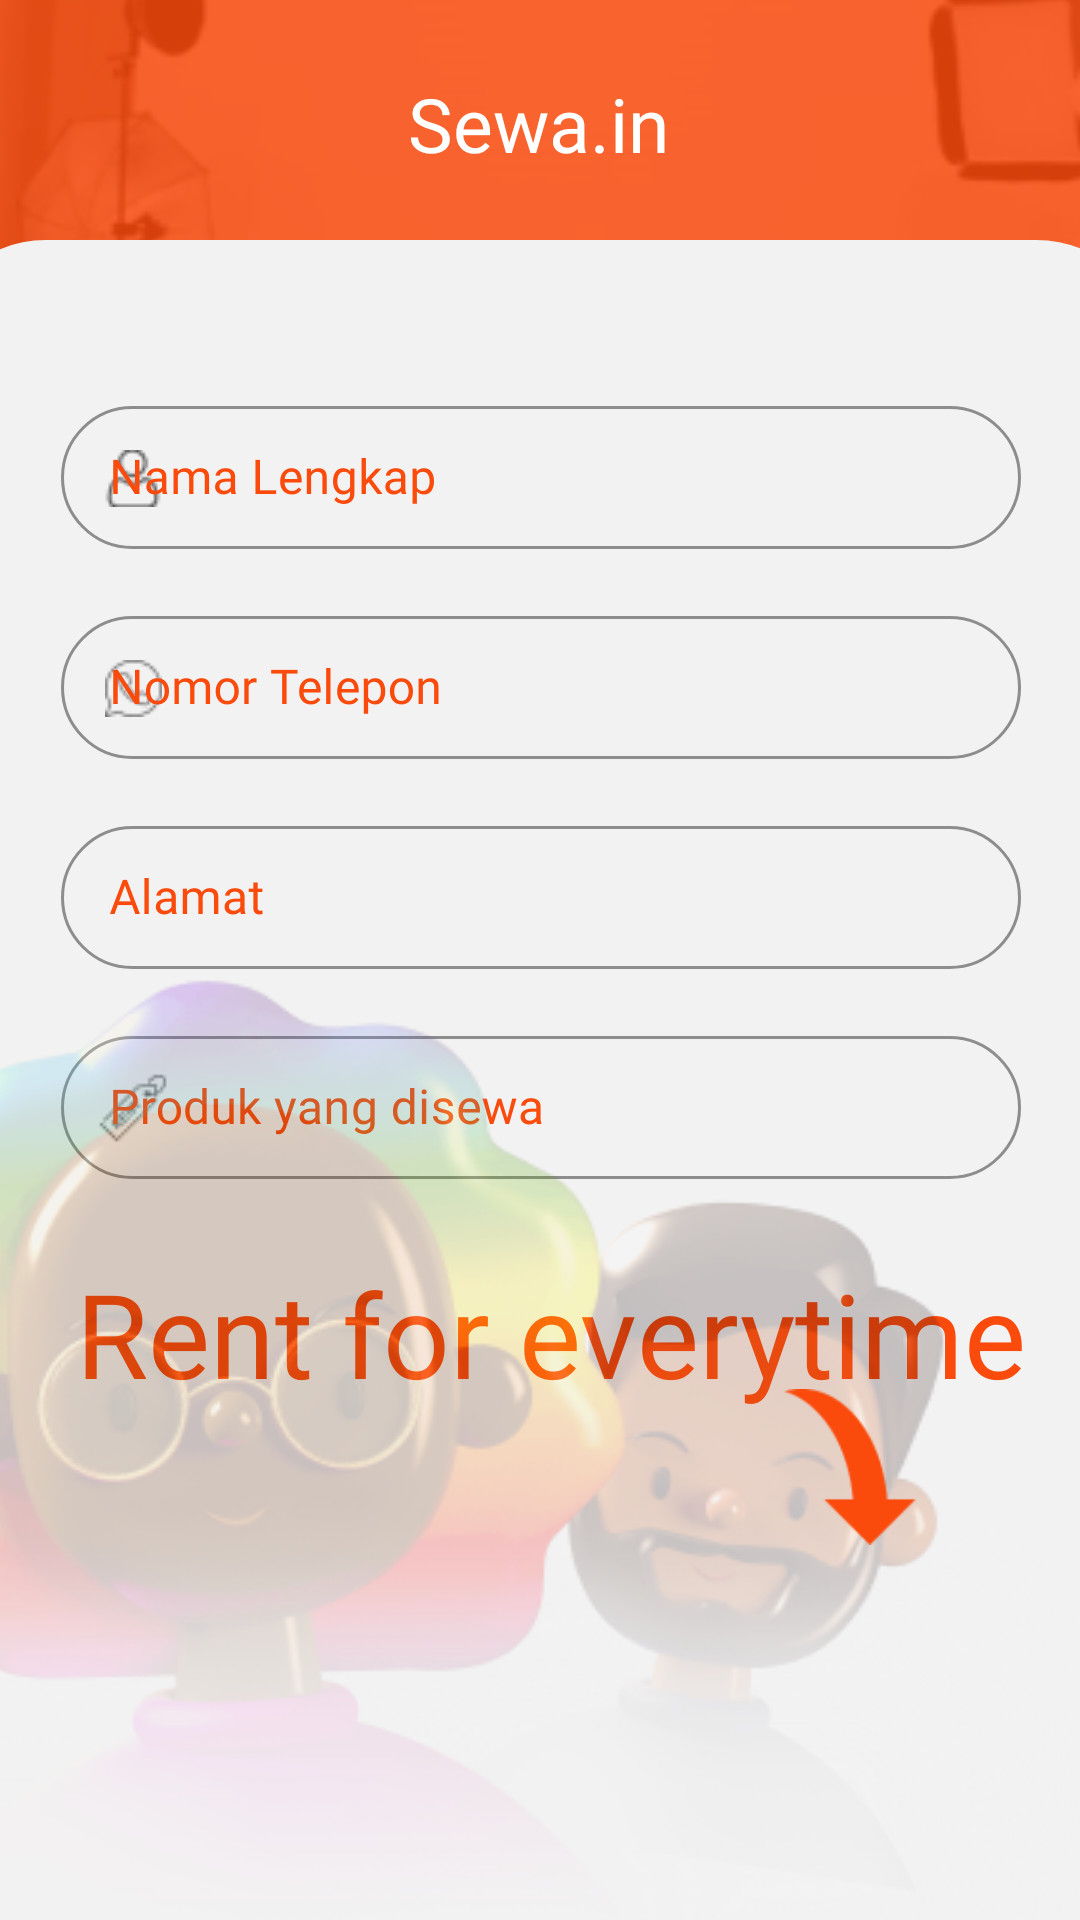

Named icons in this screenshot (1080px×1920px) and their centers, [x,y]:
curve: [850,1467]
